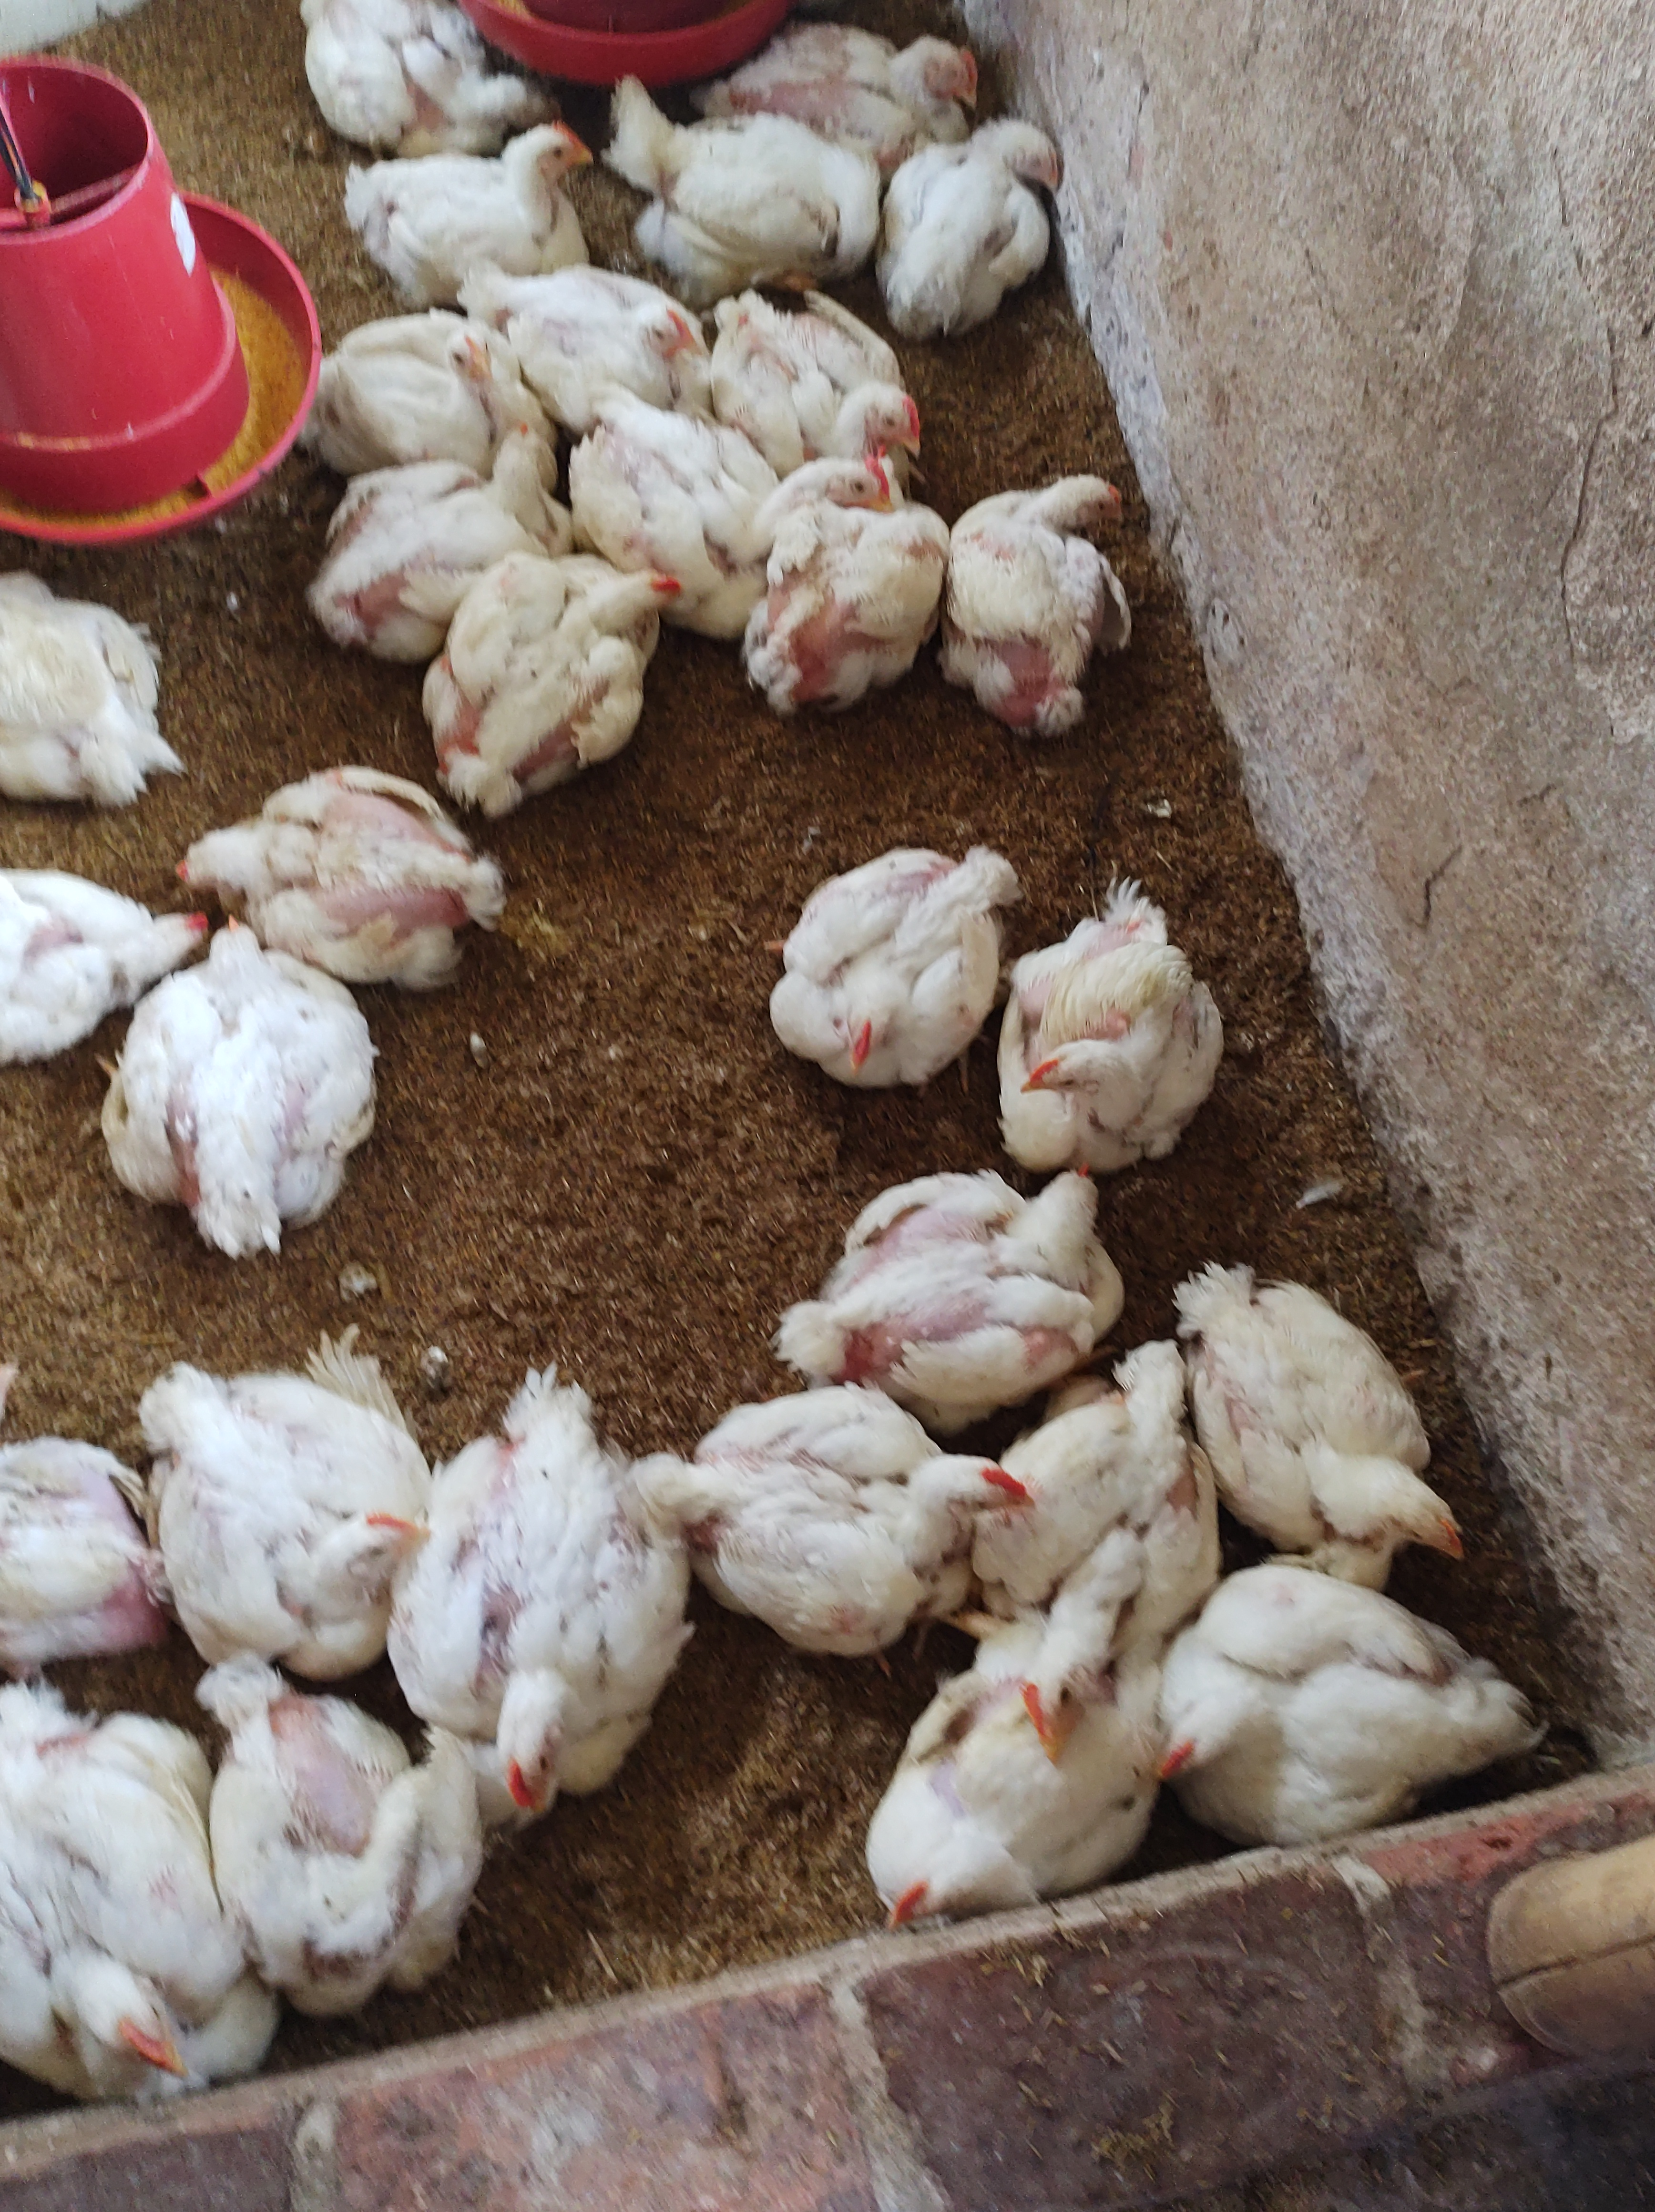Pollos: (1137, 1581, 1559, 1857), (97, 911, 402, 1261), (428, 1396, 688, 1803), (2, 1683, 243, 2120), (209, 1666, 489, 2015), (668, 1384, 1031, 1652), (1215, 1233, 1472, 1577), (146, 1341, 417, 1661), (805, 1158, 1135, 1386), (186, 755, 520, 979), (996, 883, 1220, 1170), (730, 457, 958, 727), (932, 466, 1151, 736), (789, 831, 994, 1099), (0, 553, 198, 810), (442, 562, 683, 765), (610, 73, 866, 264), (346, 106, 619, 283), (2, 847, 216, 1073), (341, 409, 570, 612), (887, 117, 1092, 343), (857, 1702, 1038, 1934), (0, 1433, 163, 1661), (290, 2, 546, 146), (718, 289, 942, 438), (304, 296, 511, 449), (535, 250, 701, 403), (749, 12, 986, 115), (1015, 1595, 1114, 1753), (784, 447, 902, 551)
